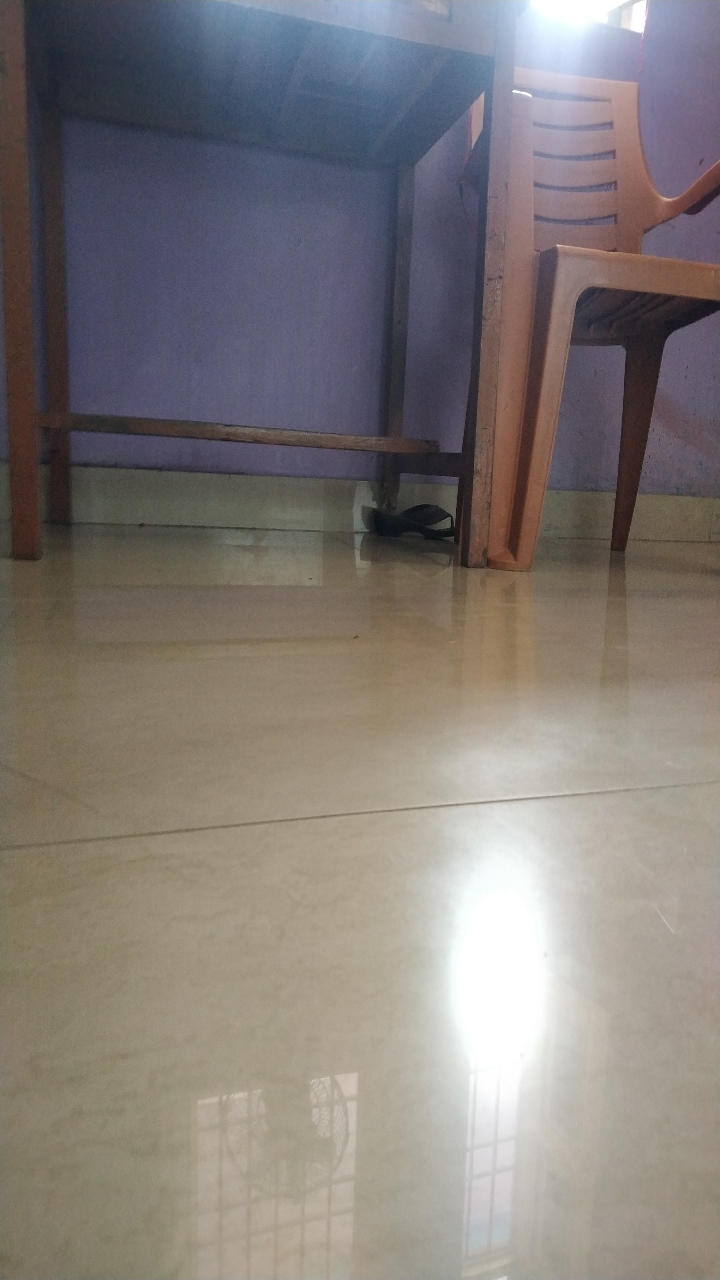Furnitures: (2, 244, 491, 596), (489, 241, 720, 588)
